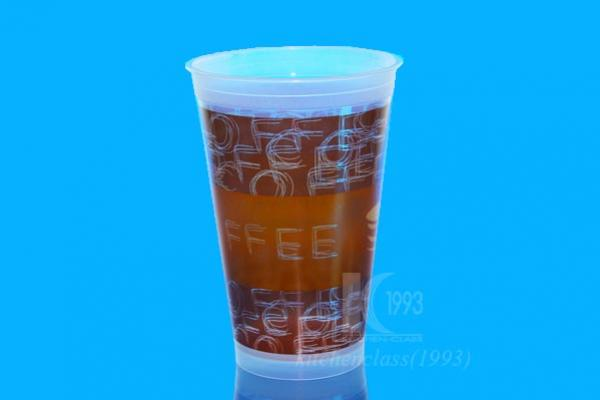plastic_bottle: (181, 40, 409, 389)
